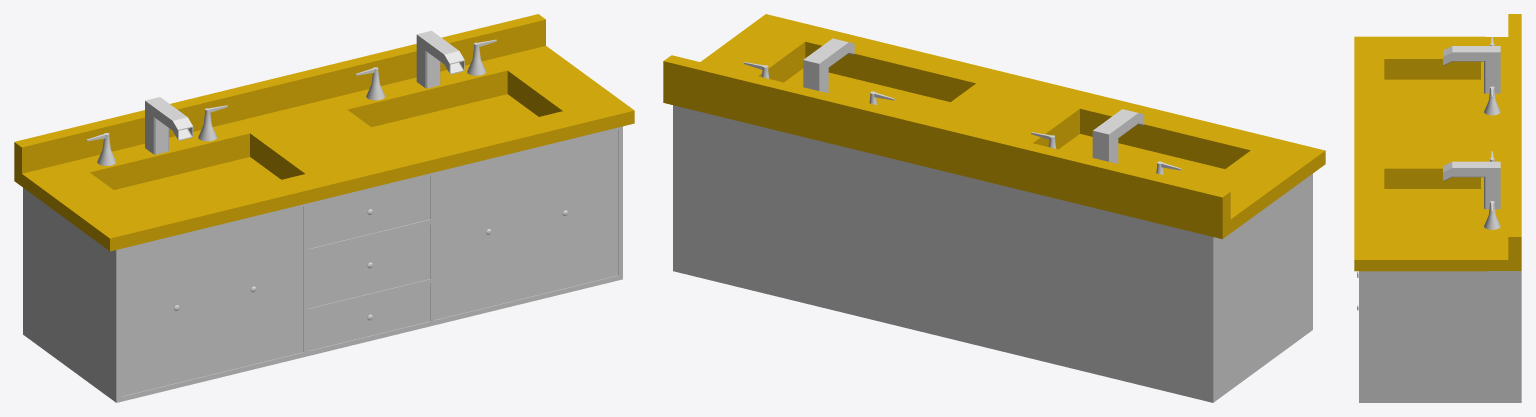
Rendered from Vanity.fbx.
The picture shows the model from 3 angles, left to right: view 1: azimuth 30°, elevation 25°; view 2: azimuth 150°, elevation 25°; view 3: azimuth 270°, elevation 25°; orthographic projection. The views are drawn at different scales.
Parts seen in each view (by area): view 1: Cube, Cube.031, Cube.029; view 2: Cube, Cube.029, Cube.031; view 3: Cube, Cube.031, Cube.029, Cylinder.029, Cylinder.031.
Part boxes in pixels (<box>): Cube: <box>14,14,634,402</box>; Cube.031: <box>416,30,464,88</box>; Cube.029: <box>145,97,193,154</box>; Cube: <box>663,14,1325,402</box>; Cube.029: <box>1092,109,1144,163</box>; Cube.031: <box>803,38,854,93</box>; Cube: <box>1354,14,1521,402</box>; Cube.031: <box>1443,161,1500,209</box>; Cube.029: <box>1443,46,1500,93</box>; Cylinder.029: <box>1484,86,1500,115</box>; Cylinder.031: <box>1484,201,1500,229</box>.
Bounding box in the file's own units: 651 × 256 × 207.
